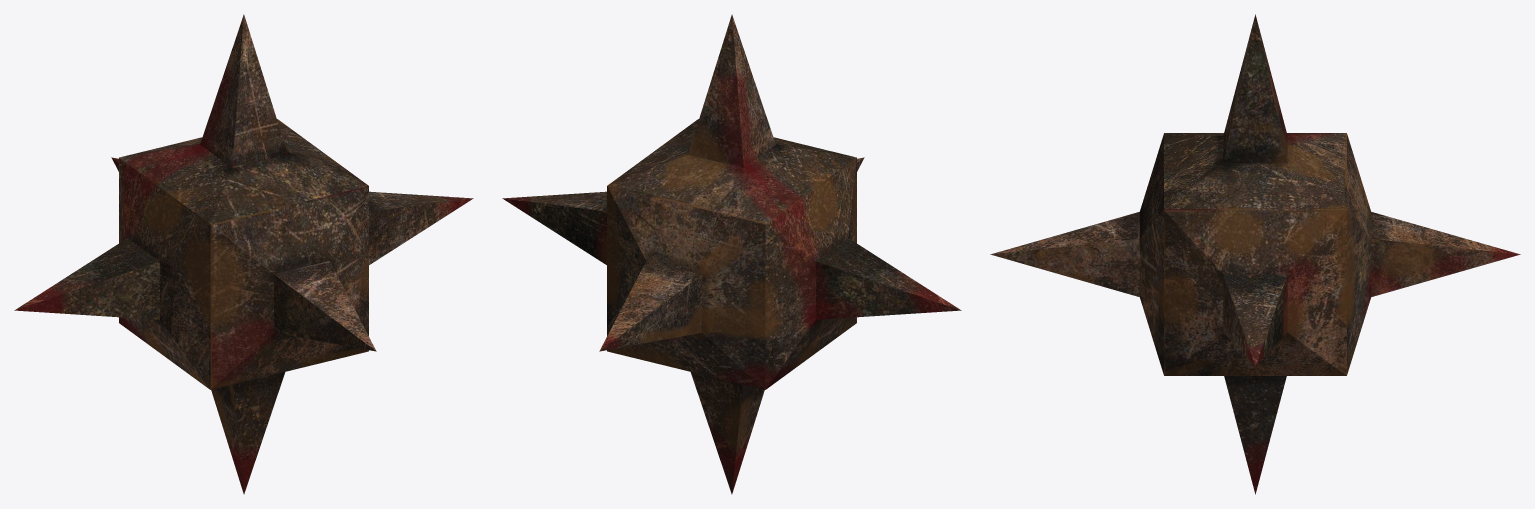
The model's file is Pinche.fbx.
3 renders of one model, left to right at view 1: azimuth 30°, elevation 25°; view 2: azimuth 150°, elevation 25°; view 3: azimuth 270°, elevation 25°, orthographic.
Visible parts, largest first — view 1: Pinche; view 2: Pinche; view 3: Pinche.
Boxes of the visible parts, bbox=[...] form: Pinche: bbox=[14, 14, 473, 494]; Pinche: bbox=[502, 14, 961, 494]; Pinche: bbox=[990, 14, 1520, 494].
Bounding box in the file's own units: 912 × 912 × 912.
Materials: 1 (1 with a texture image).
